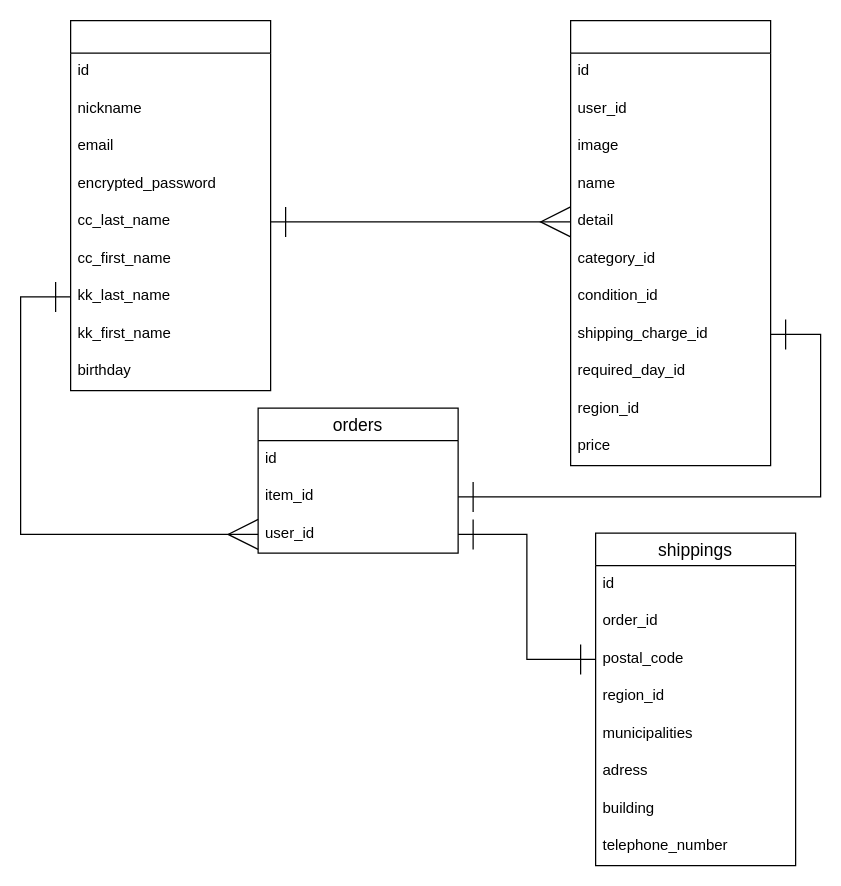
Image size: 841x886. Some labels were removed from this diagram. The box of each missing label's shape, as (x1, y1, x2, y2) in pixels:
items: (569, 19, 771, 466)
users: (69, 19, 271, 391)
